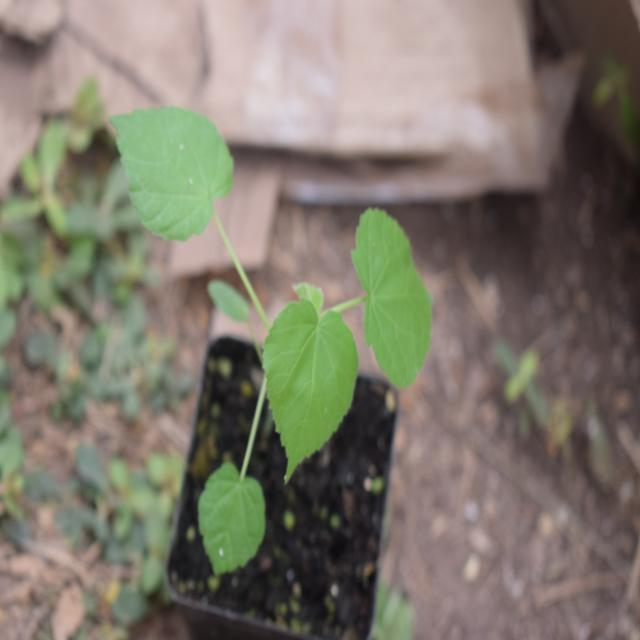abutilon theophrasti: (97, 133, 451, 582)
